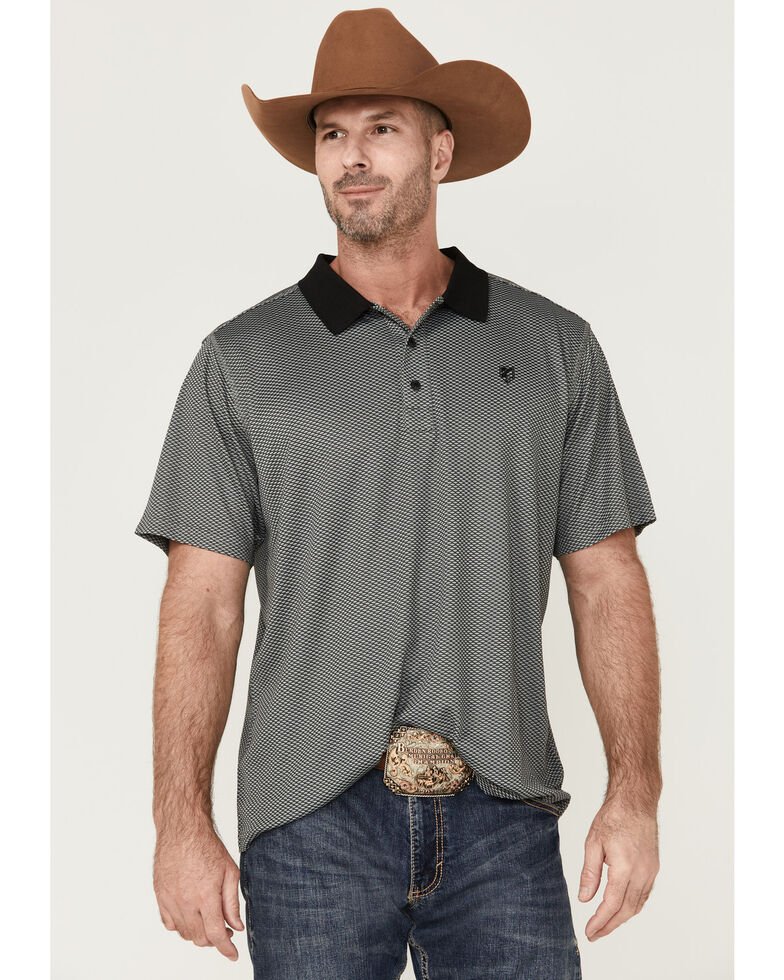polo shirt: (129, 240, 620, 804)
